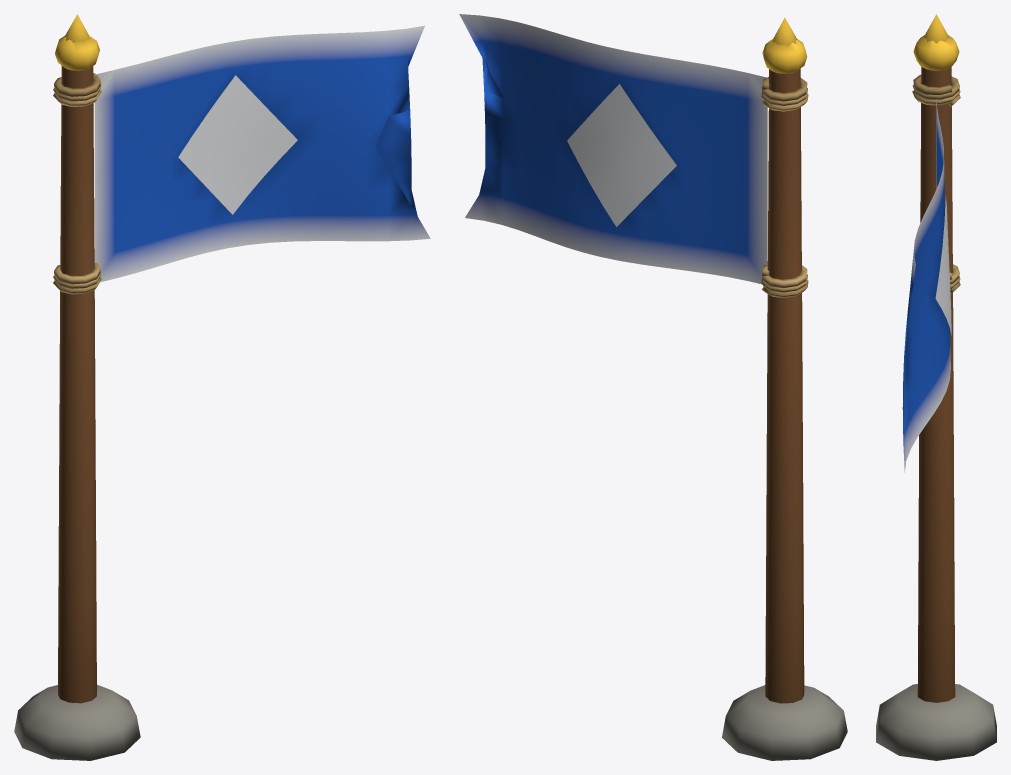
Rendered from checkpoint_flag.glb.
3 renders of one model, left to right at view 1: azimuth 30°, elevation 25°; view 2: azimuth 150°, elevation 25°; view 3: azimuth 270°, elevation 25°, orthographic.
Visible parts, largest first — view 1: banner, checkpoint_flag; view 2: banner, checkpoint_flag; view 3: checkpoint_flag, banner.
Part boxes in pixels (x1,y1,x2,y2): banner: (94, 25, 430, 282); checkpoint_flag: (14, 14, 140, 760); banner: (459, 14, 767, 284); checkpoint_flag: (722, 17, 847, 760); checkpoint_flag: (876, 14, 996, 760); banner: (902, 87, 951, 472).
Size of the model in its own units: 1.14 by 2 by 0.3043.
